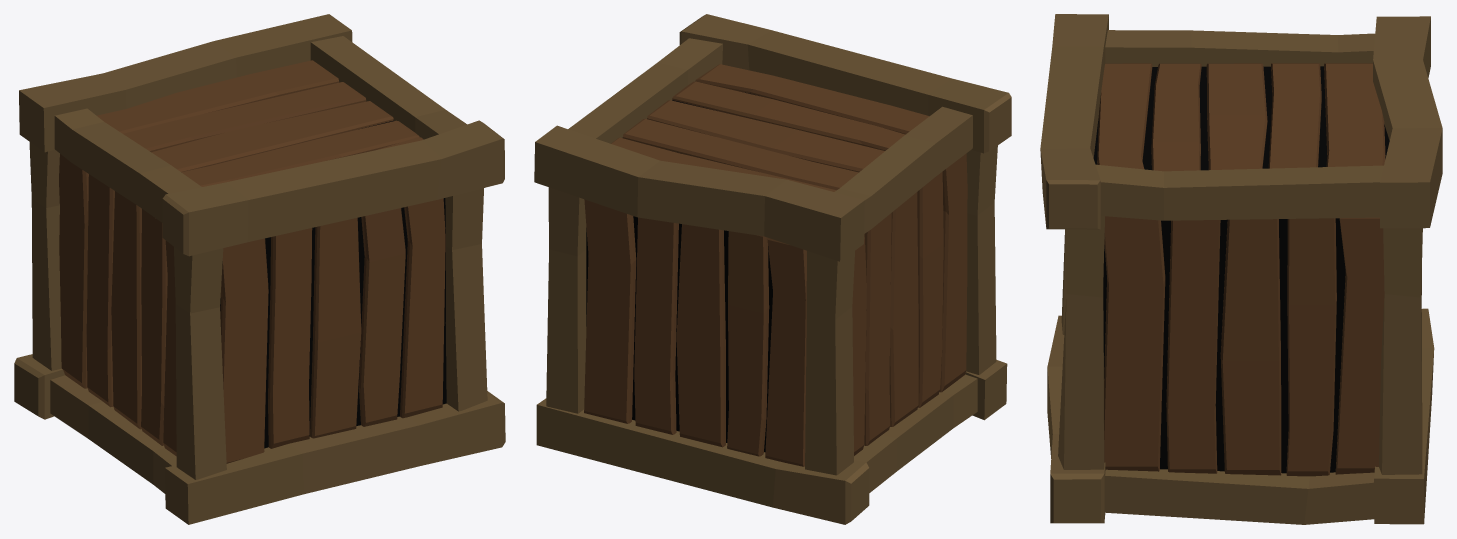
3 renders of one model, left to right at view 1: azimuth 30°, elevation 25°; view 2: azimuth 150°, elevation 25°; view 3: azimuth 270°, elevation 25°, orthographic. The views are drawn at different scales.
Visible parts, largest first — view 1: Box; view 2: Box; view 3: Box.
Boxes of the visible parts, left/top/right/bottom form: Box: left=14, top=14, right=505, bottom=524; Box: left=534, top=14, right=1011, bottom=524; Box: left=1040, top=14, right=1442, bottom=524.
Bounding box in the file's own units: 67.41 × 62.72 × 65.67.
